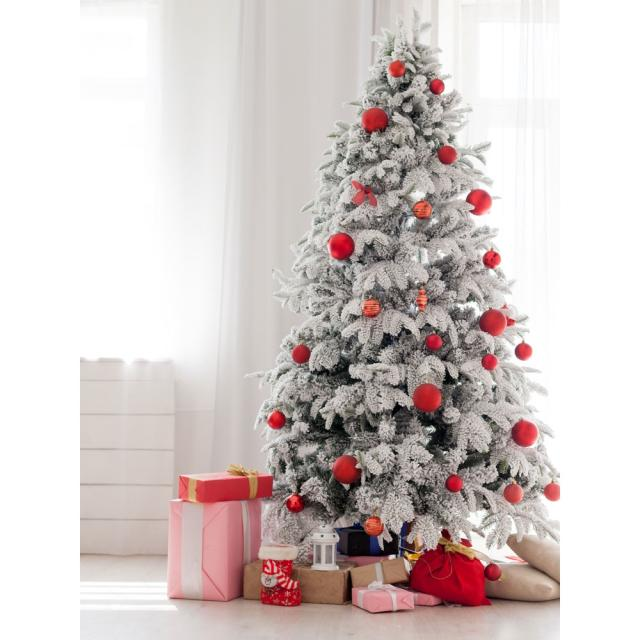Christmas-tree: (278, 8, 584, 546)
